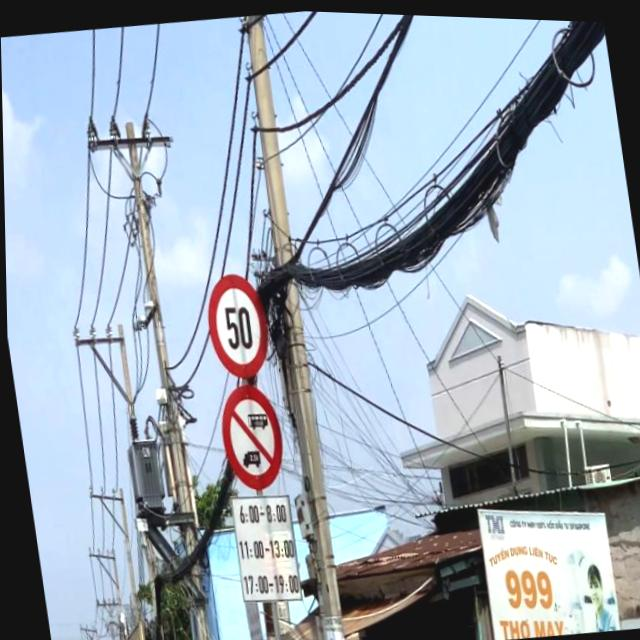Toc do toi da cho phep: (200, 267, 274, 381)
